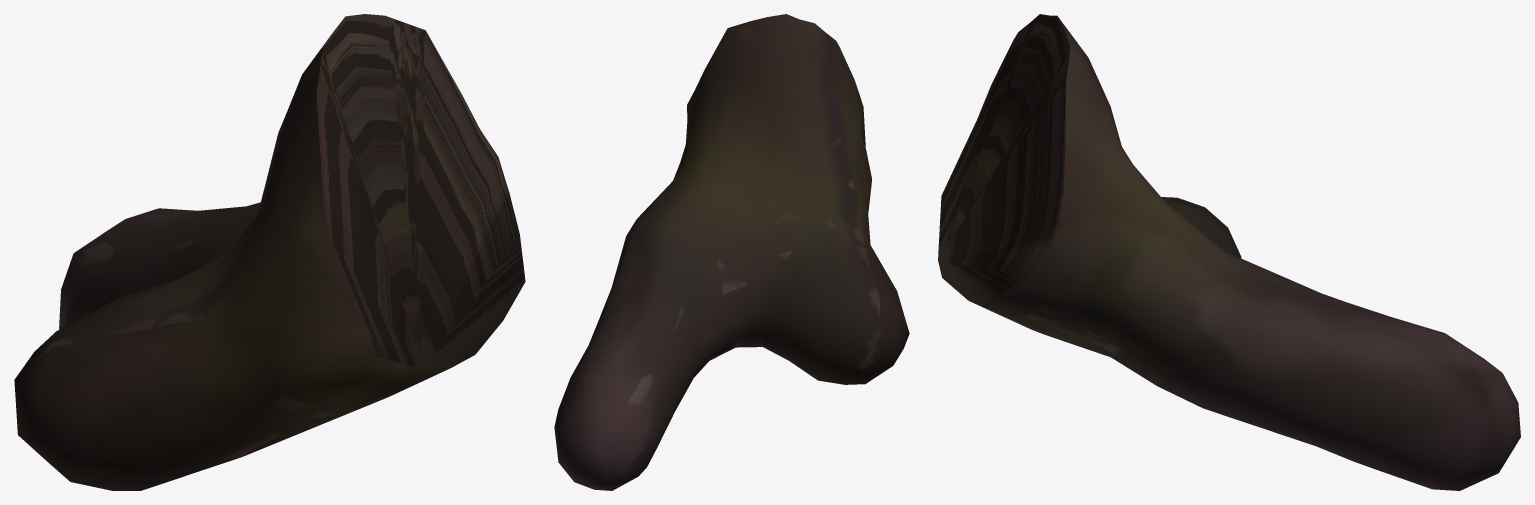
Rendered from hexatreeChunk.fbx.
3 views of the same model, side by side, from view 1: azimuth 30°, elevation 25°; view 2: azimuth 150°, elevation 25°; view 3: azimuth 270°, elevation 25° (orthographic). The views are drawn at different scales.
Visible parts, largest first — view 1: Cylinder.002; view 2: Cylinder.002; view 3: Cylinder.002.
Boxes of the visible parts, x1,y1,x2,y2 form: Cylinder.002: (14, 14, 525, 490); Cylinder.002: (554, 14, 909, 490); Cylinder.002: (938, 14, 1520, 490).
Bounding box in the file's own units: 24.51 × 32.54 × 37.69.
